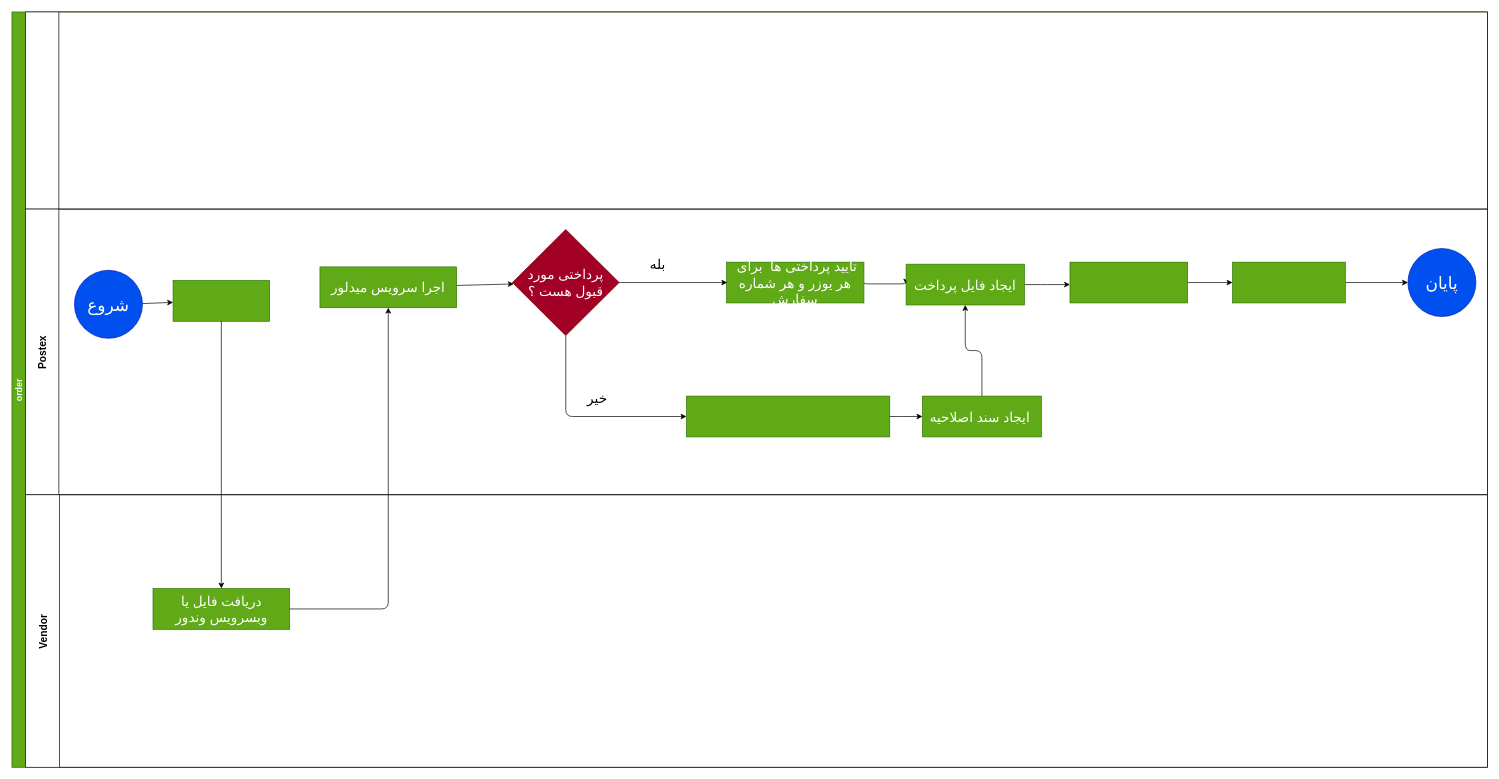
Image size: 1499x779. Some labels were removed from this diagram. The shapes that lost their labels are listed below. From the top down, each one's box as (x1, y1, x2, y2) in pixels, then its label:
(25, 11, 1488, 209): Customer
(172, 280, 270, 321): درخواست واریزی
(1069, 261, 1188, 303): تایید مدیر و دریافت otp
(1232, 261, 1345, 303): واریز فایل ایجاد شده و کسر مبلغ از کیف پول
(686, 395, 890, 437): لیست مغاریت برای شماره سفارش و یوزر
